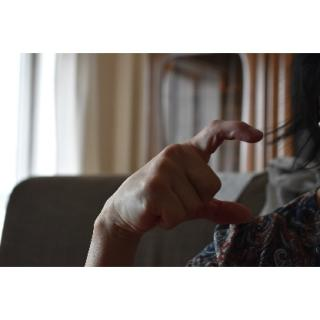DELL: (104, 118, 266, 232)
